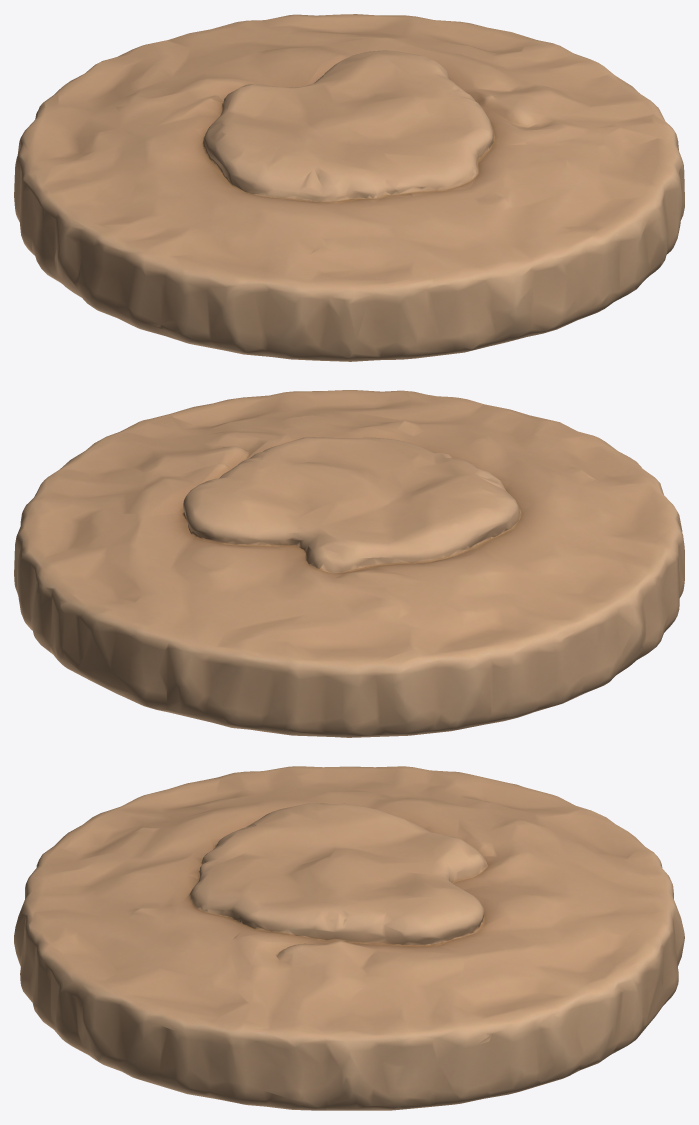
Rendered from Prop_WasteLiquid.glb.
3 renders of one model, top to bottom at view 1: azimuth 30°, elevation 25°; view 2: azimuth 150°, elevation 25°; view 3: azimuth 270°, elevation 25°, orthographic.
Size of the model in its own units: 1.9 by 0.4389 by 1.9.
Materials: 1 (1 with a texture image).
